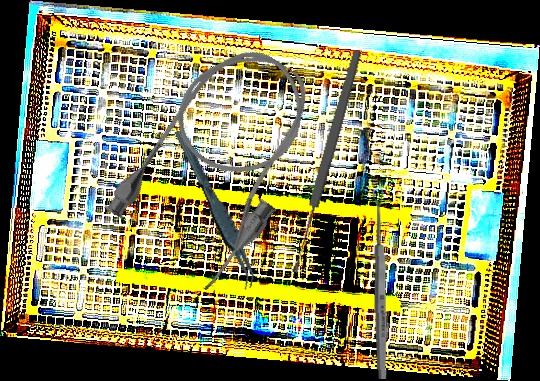Cannula: (96, 25, 345, 299)
Surgical Spoon: (288, 49, 364, 274), (372, 189, 389, 380)
Tissue Forceps: (172, 122, 260, 296)
